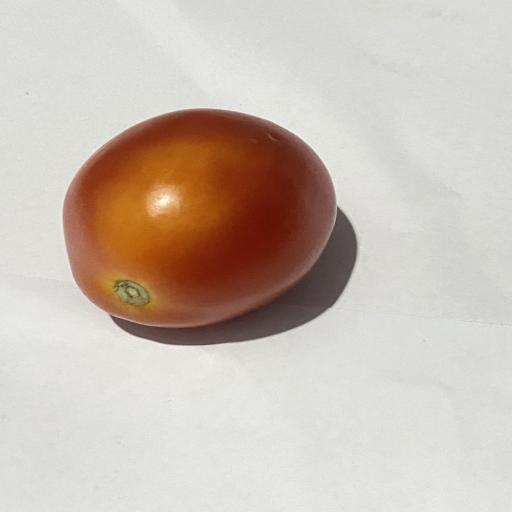ripe: (63, 109, 336, 327)
